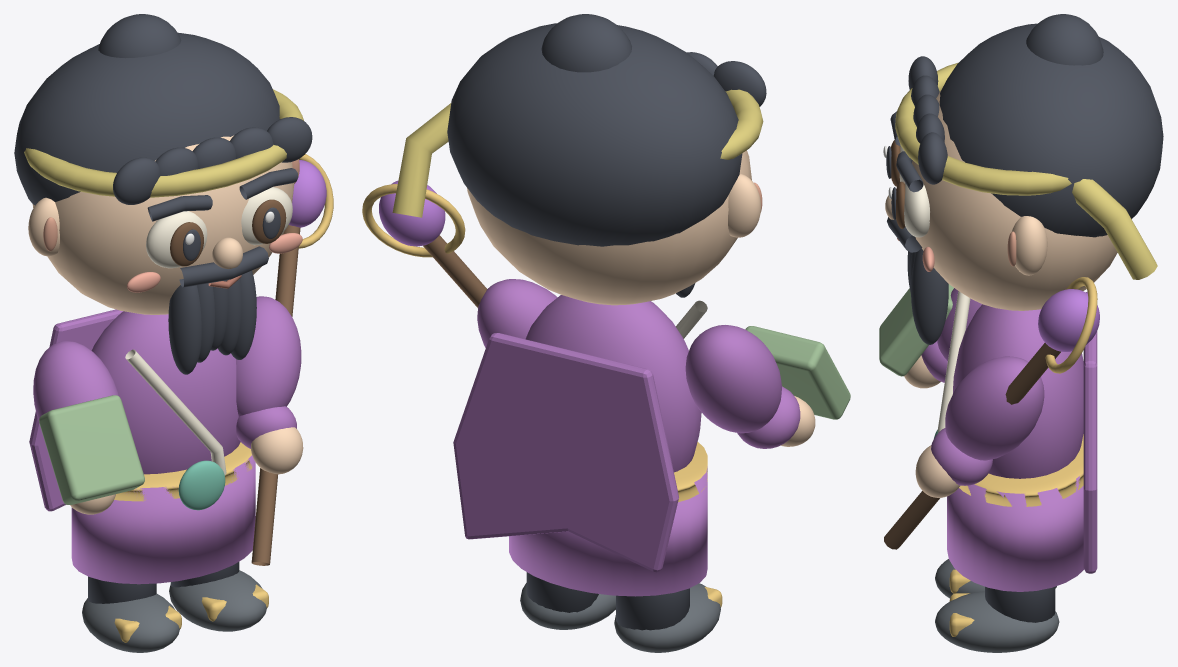
Rendered from yt_warlock.fbx.
3 renders of one model, left to right at view 1: azimuth 30°, elevation 25°; view 2: azimuth 150°, elevation 25°; view 3: azimuth 270°, elevation 25°, orthographic. The views are drawn at different scales.
Parts seen in each view (by area): view 1: hair_mass, robe_skirt, face, body, medicine_book, headband, sleeve, sleeve.001, boot, boot.001, cape, spell_staff (+34 smaller); view 2: hair_mass, cape, face, body, robe_skirt, sleeve.001, medicine_book, hair_bun, sleeve, headband_tail, boot, leg (+11 smaller); view 3: hair_mass, face, robe_skirt, body, sleeve, headband, boot.001, cape, headband_tail, hair_bun, belt, medicine_book (+22 smaller).
Part boxes in pixels (box(x1,y1,x2,y2)): hair_mass: box(14, 32, 279, 205); robe_skirt: box(71, 455, 255, 584); face: box(32, 135, 294, 314); body: box(91, 311, 240, 474); medicine_book: box(39, 395, 144, 504); headband: box(24, 89, 303, 197); sleeve: box(236, 296, 301, 416); sleeve.001: box(33, 341, 119, 421); boot: box(82, 594, 179, 652); boot.001: box(169, 570, 266, 631); cape: box(29, 309, 122, 511); spell_staff: box(251, 225, 300, 565); hair_mass: box(447, 23, 742, 246); cape: box(453, 333, 678, 572); face: box(467, 150, 751, 305); body: box(525, 295, 701, 472); robe_skirt: box(509, 466, 707, 596); sleeve.001: box(685, 325, 781, 433); medicine_book: box(745, 326, 850, 419); hair_bun: box(541, 14, 631, 72); sleeve: box(477, 279, 557, 347); headband_tail: box(392, 103, 451, 217); boot: box(614, 583, 720, 652); leg: box(616, 588, 689, 630); hair_mass: box(939, 23, 1163, 237); face: box(904, 91, 1131, 310); robe_skirt: box(947, 476, 1084, 591); body: box(953, 304, 1083, 478); sleeve: box(945, 356, 1044, 460); headband: box(895, 62, 1071, 195); boot.001: box(935, 591, 1059, 652); cape: box(1083, 291, 1097, 573); headband_tail: box(1072, 179, 1157, 279); hair_bun: box(1026, 14, 1103, 65); belt: box(959, 434, 1083, 506); medicine_book: box(879, 284, 953, 376).
Bounding box in the file's own units: 1.55 × 2.46 × 1.05.
